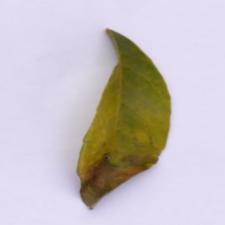Black: (73, 136, 169, 204)
